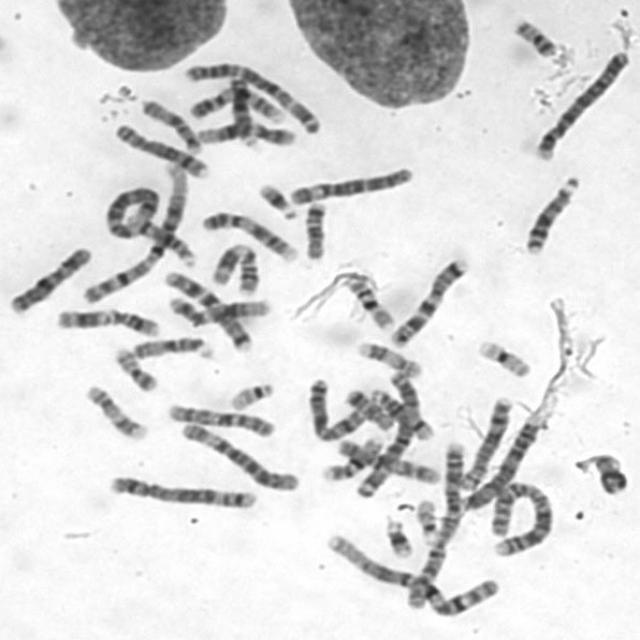A1: (78, 158, 194, 306), (321, 528, 503, 618)
A2: (400, 439, 470, 611), (486, 475, 556, 558)
A3: (180, 56, 324, 138), (351, 368, 420, 501)
B4: (530, 46, 634, 162), (456, 414, 548, 513)
B5: (104, 471, 259, 511), (100, 181, 161, 241)
C10: (334, 435, 442, 486), (164, 399, 278, 439)
C11: (52, 303, 165, 339), (206, 239, 261, 296)
C12: (164, 292, 273, 328), (192, 118, 300, 147)
C6: (178, 418, 302, 493), (284, 161, 416, 207)
C7: (159, 266, 255, 354), (384, 252, 472, 348)
C8: (456, 389, 516, 494), (110, 119, 212, 180)
C9: (196, 206, 300, 264), (185, 82, 290, 124)
D13: (520, 170, 584, 256), (226, 73, 260, 150)
D14: (120, 210, 199, 268), (364, 384, 436, 442)
D15: (137, 95, 204, 154), (127, 332, 216, 362)
E16: (338, 268, 398, 332), (318, 430, 388, 482)
E17: (80, 378, 152, 442), (352, 337, 425, 379)
E18: (342, 385, 395, 433), (300, 197, 330, 260)
F19: (472, 334, 536, 380)
F20: (108, 342, 159, 393), (506, 14, 562, 58)
G21: (254, 178, 302, 221), (381, 513, 417, 559)
G22: (224, 378, 276, 412), (412, 495, 442, 544)
X: (3, 242, 94, 316), (305, 373, 368, 444)
